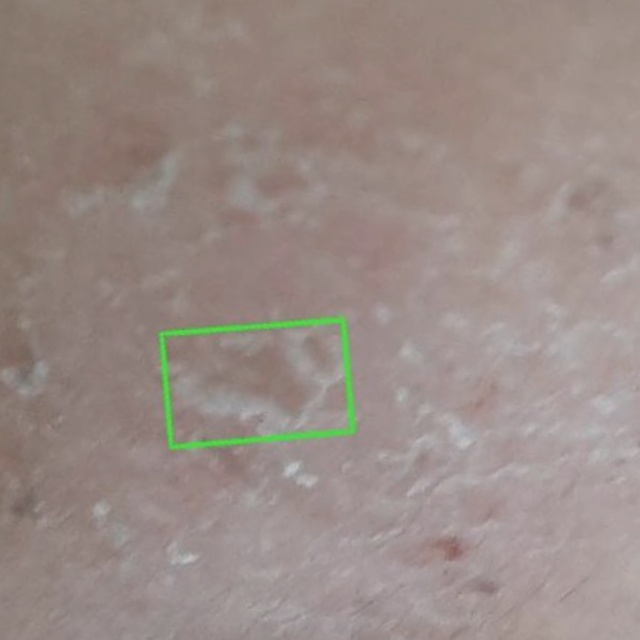Atopic Dermatitis: (160, 319, 351, 447)
